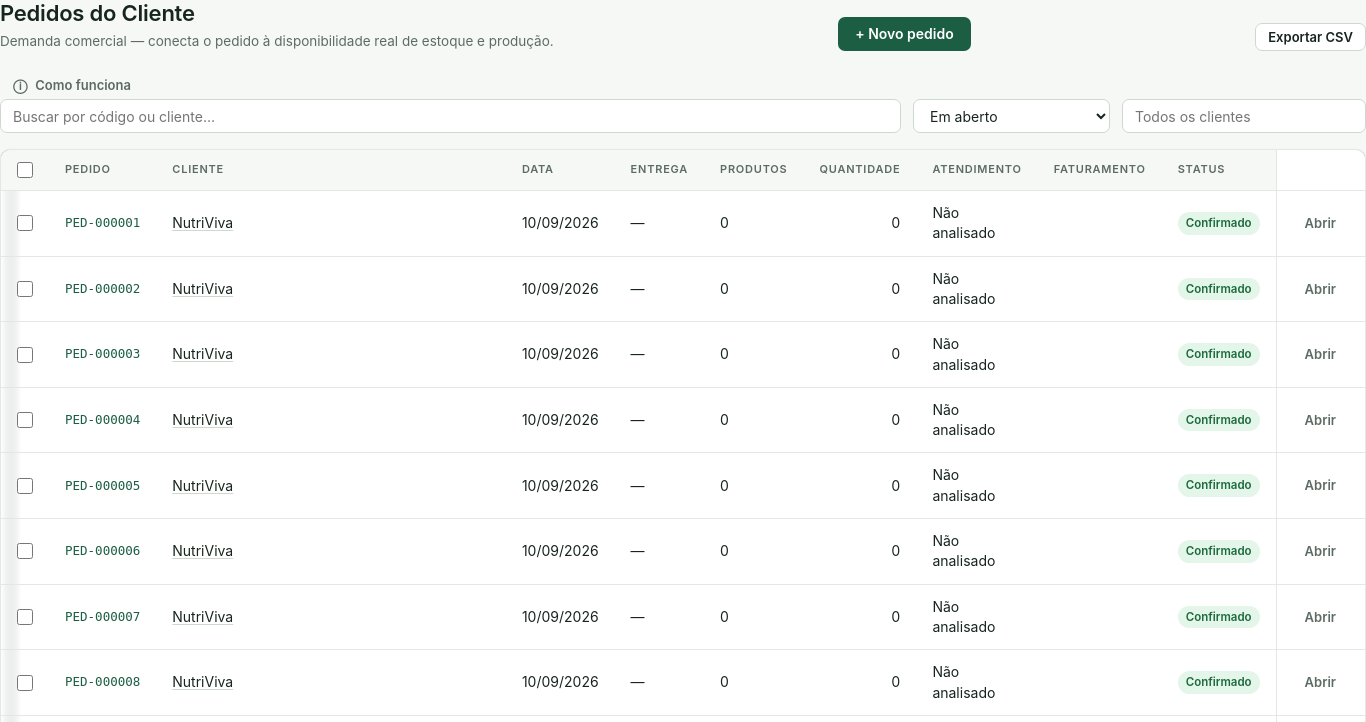
Test case: ações documentais na barra da seleção › TODOS OS FILTRADOS menos exceções: o CSV leva filtro e excludedIds, nunca os 300 ids
This screenshot has width=1366, height=722.
Click the checkbox named "Selecionar todos os registros desta página": (25, 170) [17,162,33,178]
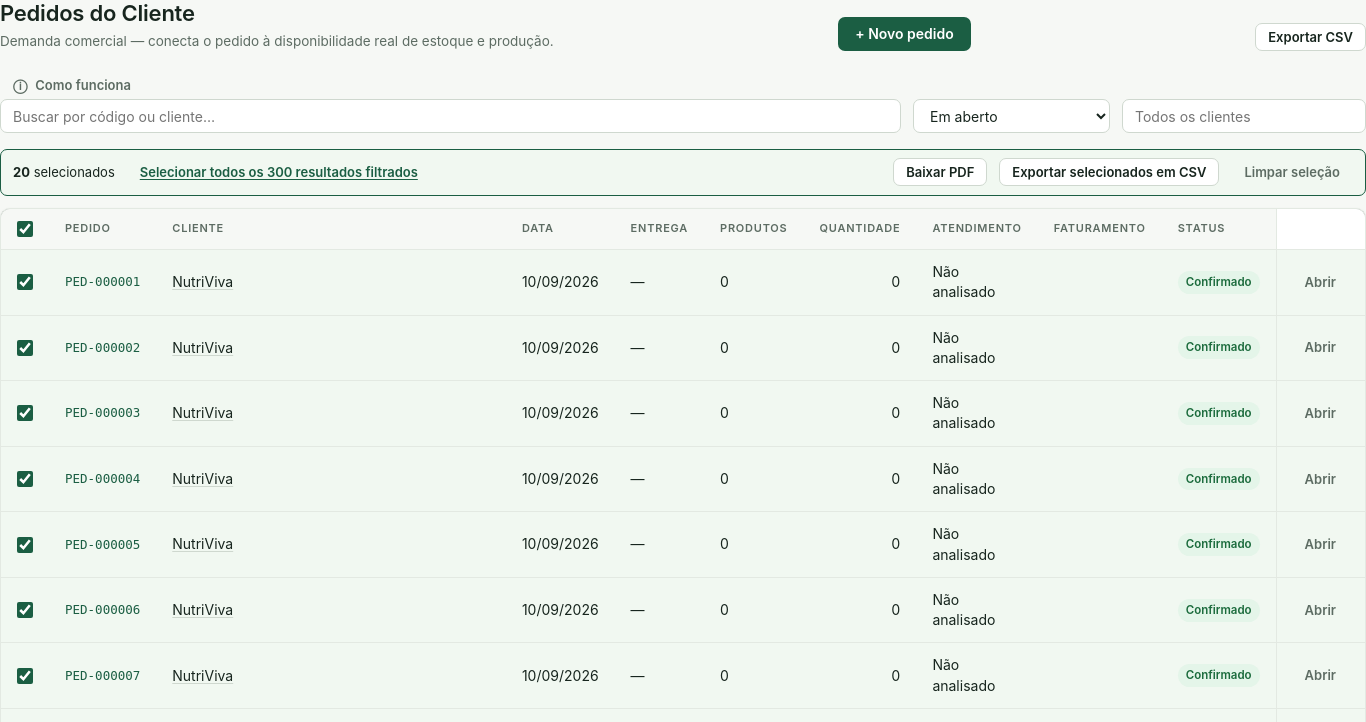
Click the button "Selecionar todos os 300 resultados filtrados": (279, 172) [127,158,431,187]
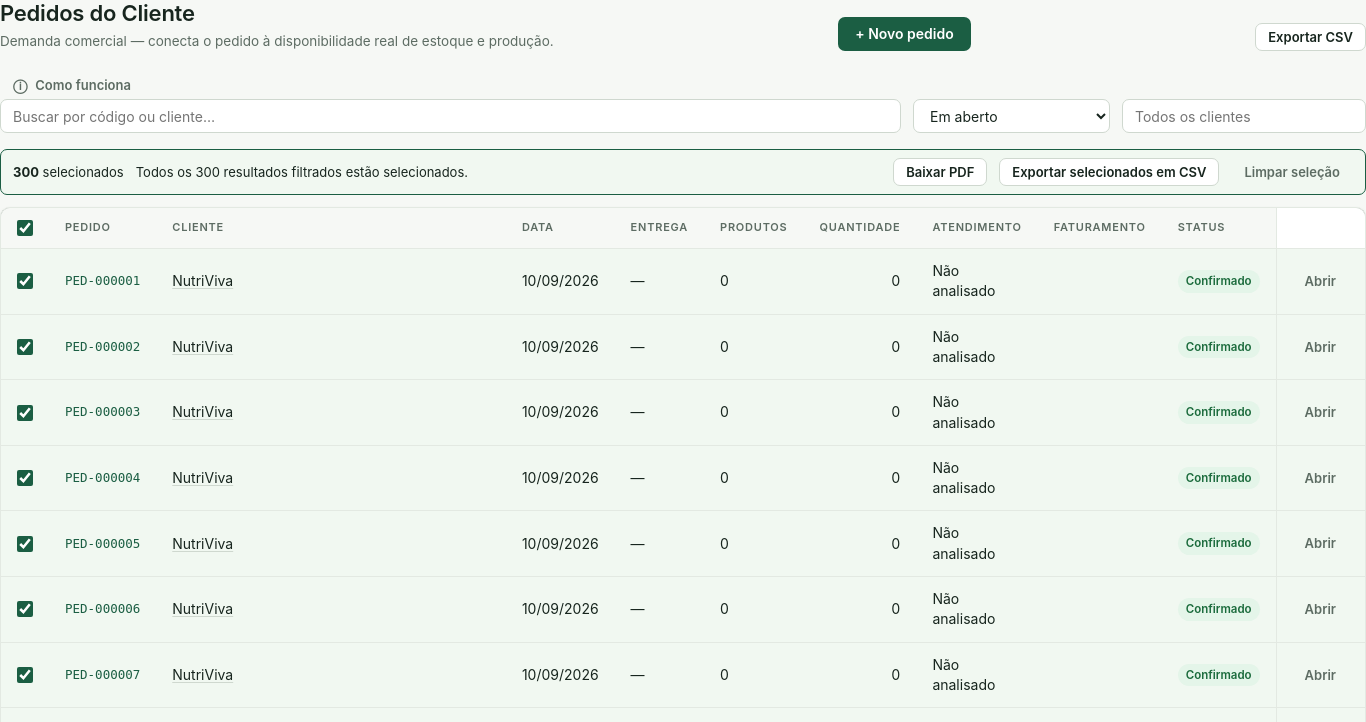
Check: the element with class "bulk-bar__count" reads "300 selecionados", box [13,163,124,181]
Click the checkbox named "Selecionar pedido PED-000003": (25, 412) [17,404,33,420]
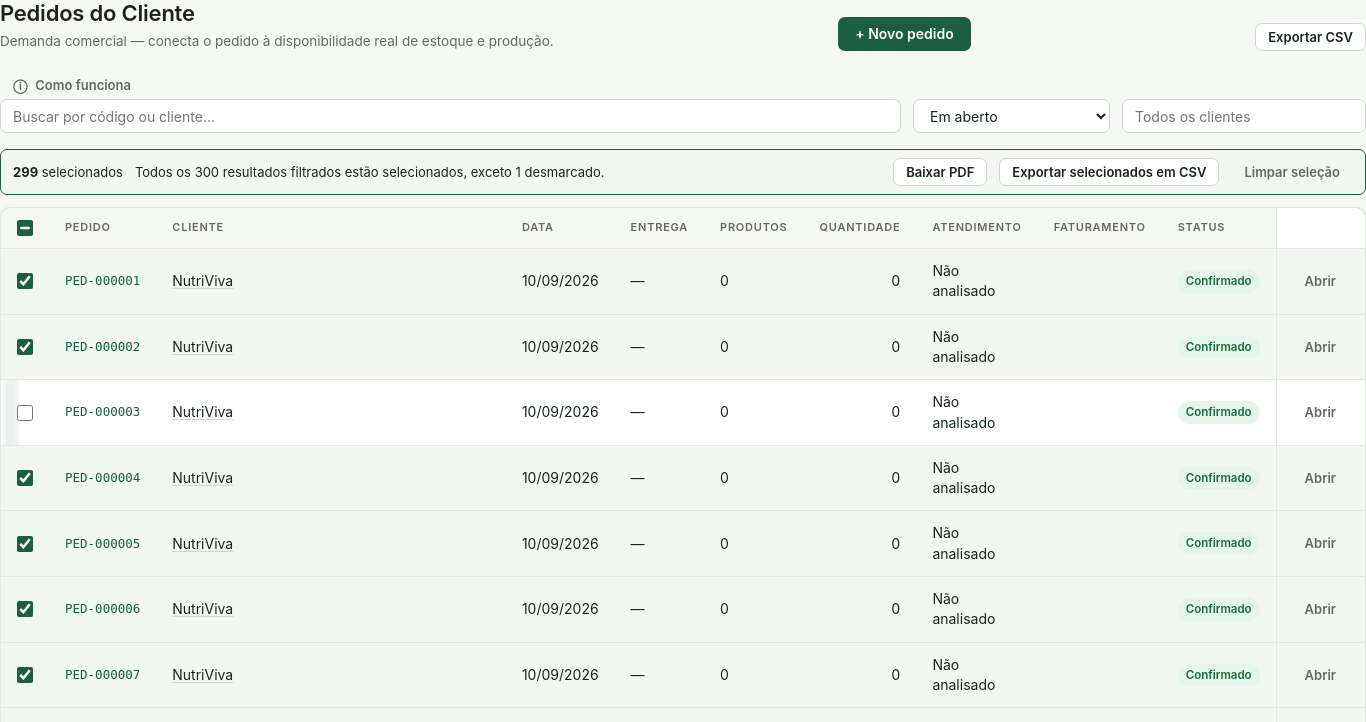
Click the checkbox named "Selecionar pedido PED-000004": (25, 478) [17,470,33,486]
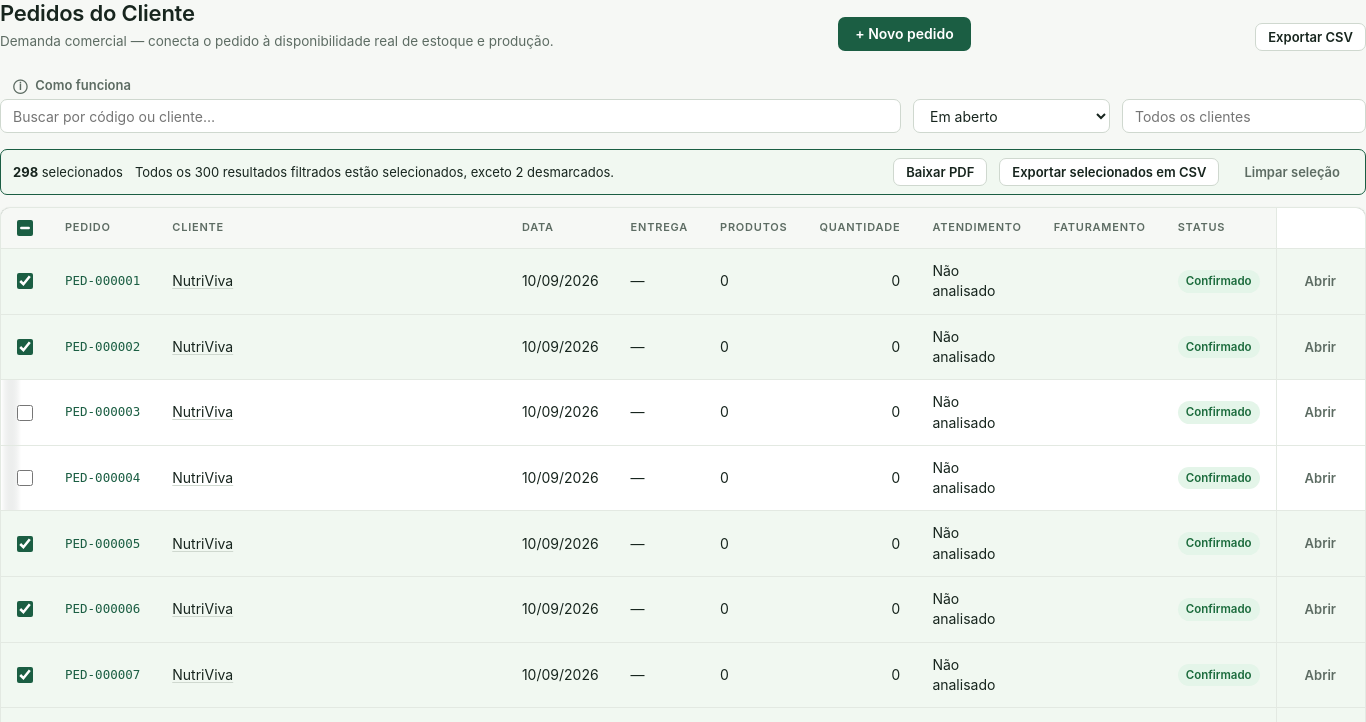
Check: the element with class "bulk-bar__count" reads "298 selecionados", box [13,163,123,181]
Click the button "Exportar selecionados em CSV": (1109, 172) [999,158,1219,186]
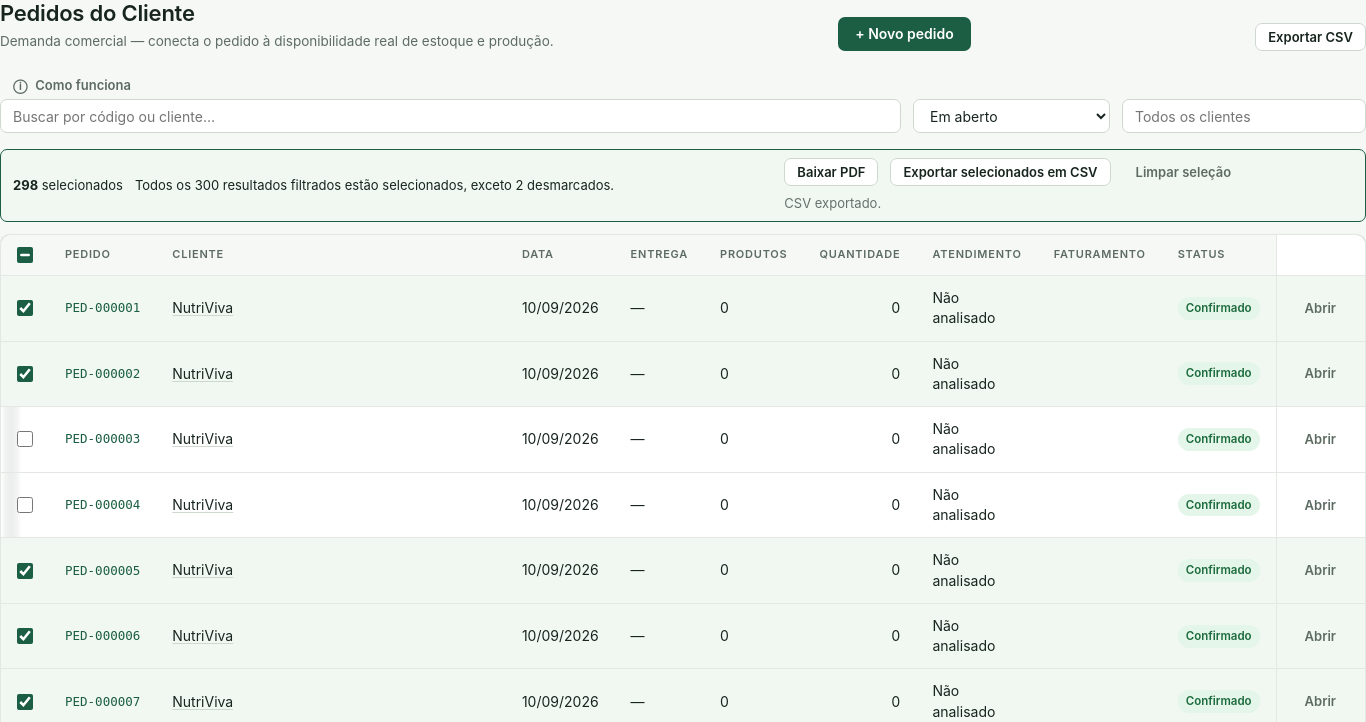
Check: the element with class "bulk-bar__count" reads "298 selecionados", box [13,176,123,195]
Check: the message reads "CSV exportado.", box [784,195,881,211]
